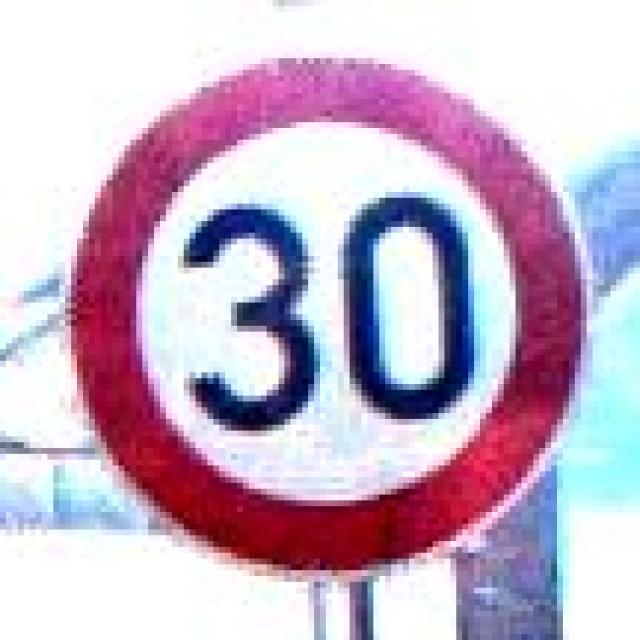speed limit 30: (67, 60, 589, 580)
